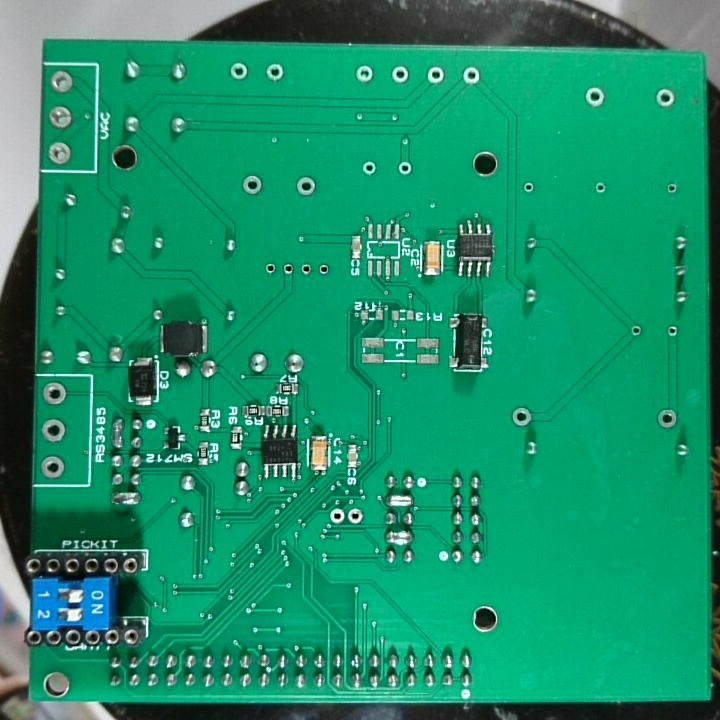F: (39, 380, 68, 409), (39, 416, 67, 445), (49, 68, 76, 98), (48, 103, 76, 130), (48, 138, 73, 167), (39, 455, 66, 480), (508, 403, 534, 428), (240, 173, 265, 198), (583, 85, 607, 111), (655, 406, 678, 431), (654, 86, 677, 111), (294, 174, 317, 198), (461, 63, 482, 89), (264, 61, 286, 85), (354, 63, 375, 86), (228, 61, 249, 84), (345, 503, 365, 527), (425, 64, 447, 85), (390, 63, 409, 86), (359, 157, 378, 178), (328, 505, 346, 527), (396, 158, 415, 178), (297, 260, 315, 280), (315, 258, 330, 280), (592, 180, 609, 198), (262, 260, 279, 278), (280, 260, 296, 278), (627, 321, 643, 338), (665, 320, 679, 339), (666, 180, 679, 198), (522, 179, 537, 194)
P: (108, 488, 143, 509), (382, 490, 417, 509), (382, 529, 416, 546), (110, 415, 126, 449)
